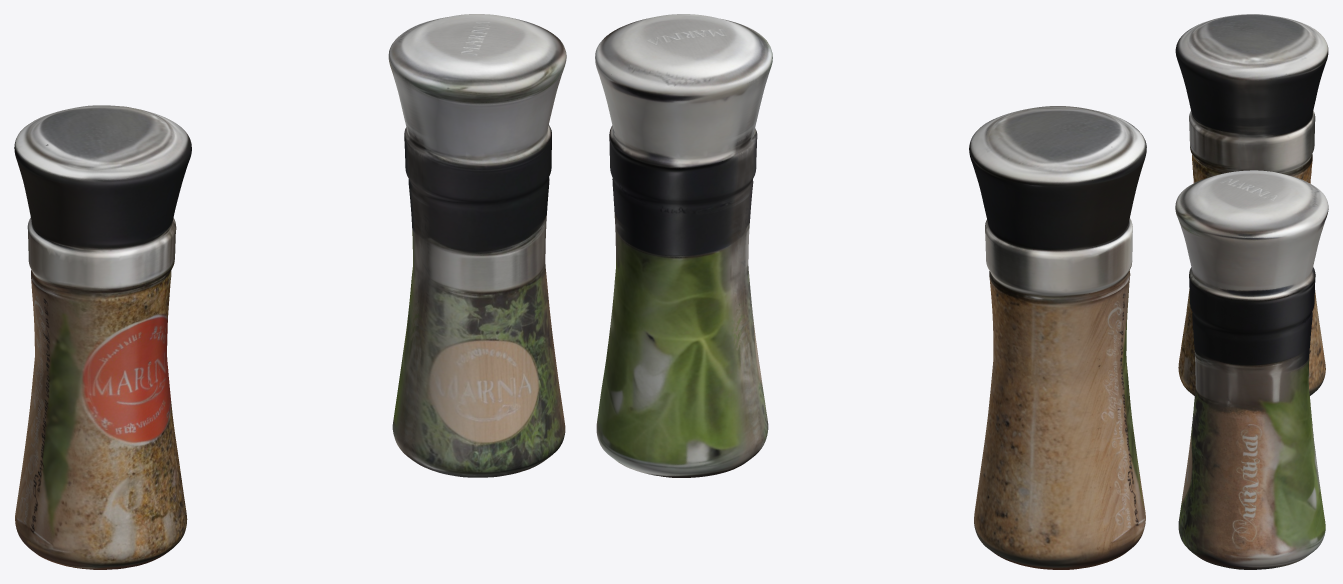
File: Spice_Grinders_in_Gar_0904202745.glb
The picture shows the model from 3 angles, left to right: view 1: azimuth 30°, elevation 25°; view 2: azimuth 150°, elevation 25°; view 3: azimuth 270°, elevation 25°; orthographic projection. The views are drawn at different scales.
Bounding box in the file's own units: 2 × 1.5 × 0.5851.
1 material, 1 textured.
